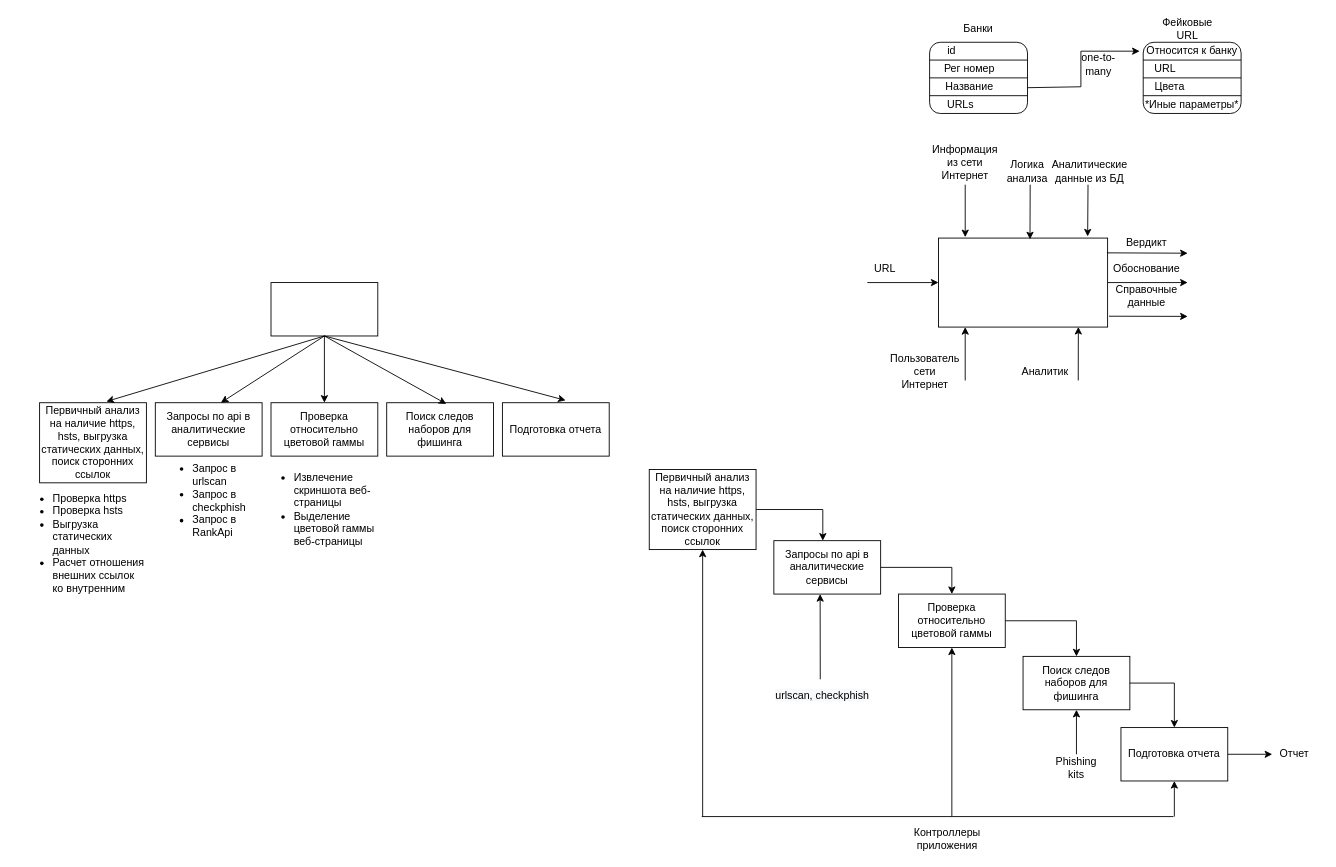
Image size: 1336x867. Some labels were removed from this diagram. The box of each missing label's shape, as (x1, y1, x2, y2) in pixels:
Антифишинг приложение: (938, 237, 1108, 327)
Процесс анализа сайта: (270, 282, 378, 336)
